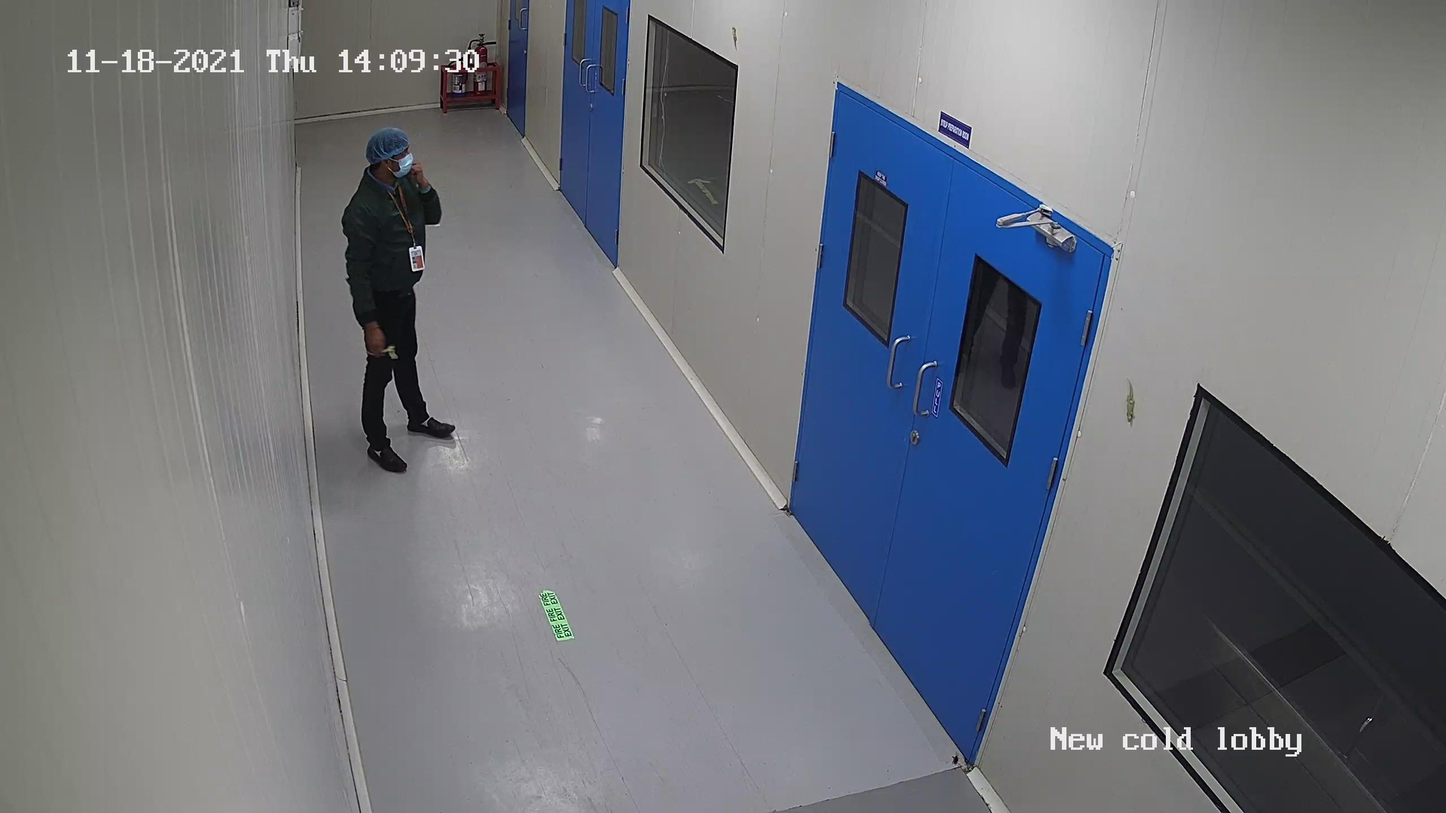cockroach: (948, 749, 963, 767)
lizard: (1117, 376, 1141, 426), (726, 24, 740, 52)
